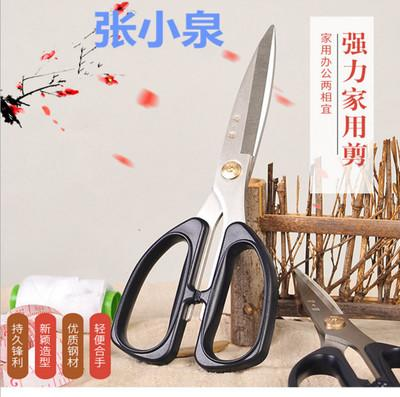scissor: (111, 13, 276, 374)
